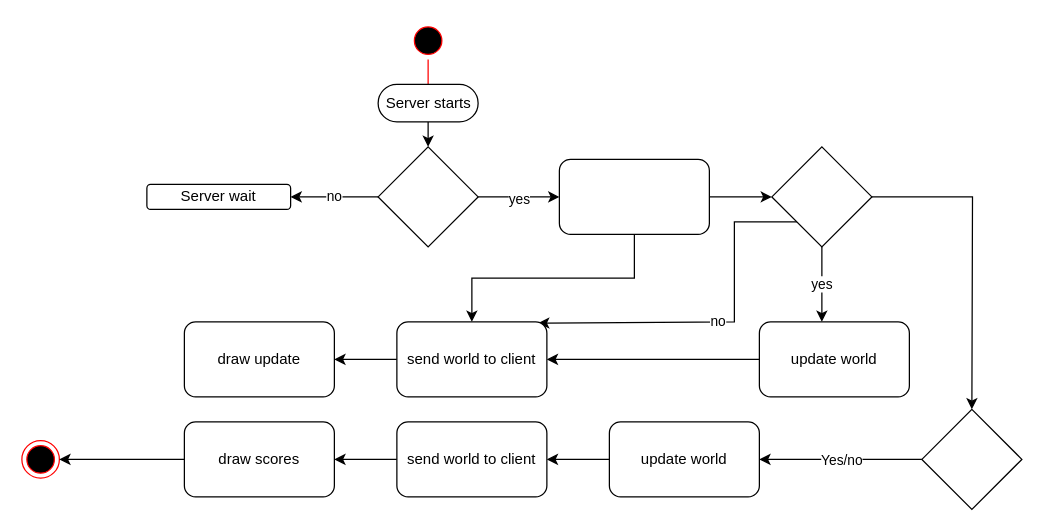
The diagram is 1044 pixels wide and 531 high, and some of its shapes have lost their labels. The centre of each missing label's shape, as x and y in pixels:
"Client conn" belongs at (427,196).
"client send update?" belongs at (821,196).
"create threaded_client" belongs at (633,196).
"Time up?" belongs at (971,458).
